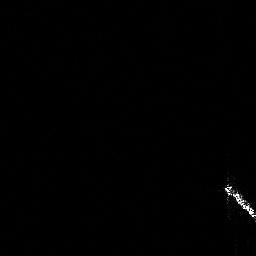ship: (225, 174, 256, 222)
